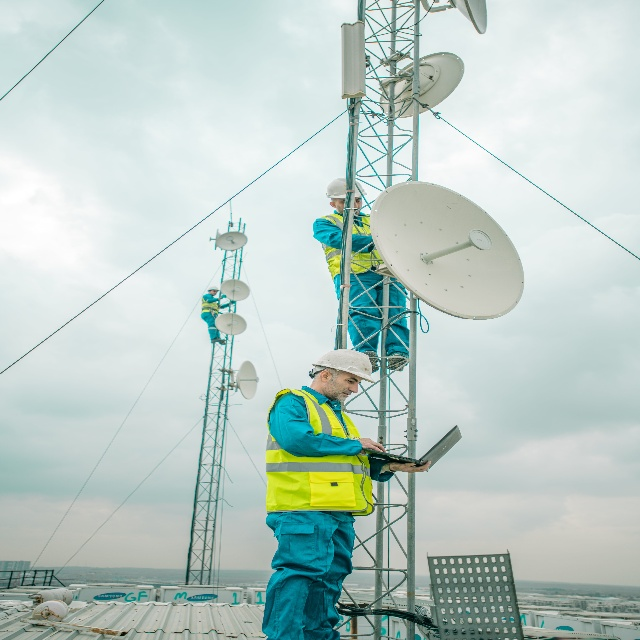Guantes: (389, 455, 432, 473), (357, 436, 387, 456)
